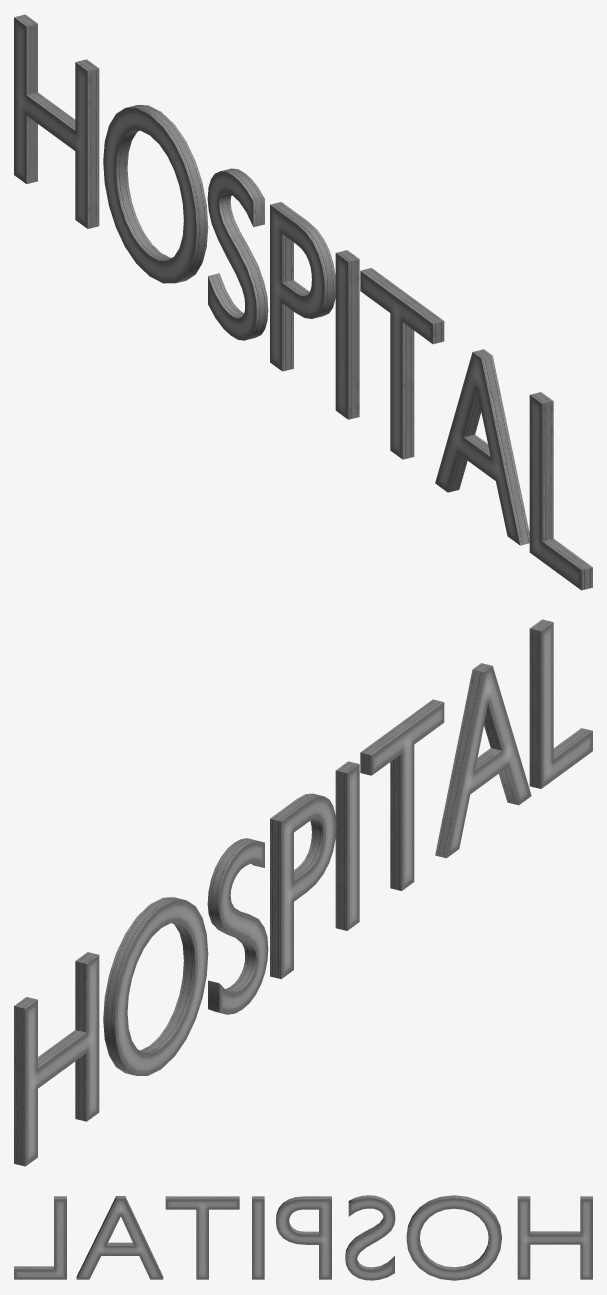
The model's file is HH_Signboard_Hospital.fbx.
3 views of the same model, one above another, from view 1: azimuth 30°, elevation 25°; view 2: azimuth 150°, elevation 25°; view 3: azimuth 270°, elevation 25° (orthographic). The views are drawn at different scales.
Visible parts, largest first — view 1: HH_Signboard_Hospital_LOD0; view 2: HH_Signboard_Hospital_LOD0; view 3: HH_Signboard_Hospital_LOD0.
Part boxes in pixels (x1,y1,x2,y2): HH_Signboard_Hospital_LOD0: [14, 14, 592, 590]; HH_Signboard_Hospital_LOD0: [14, 619, 592, 1166]; HH_Signboard_Hospital_LOD0: [14, 1195, 592, 1280].
Size of what is drawn, in the model's own units: 9.61 by 130 by 823.
